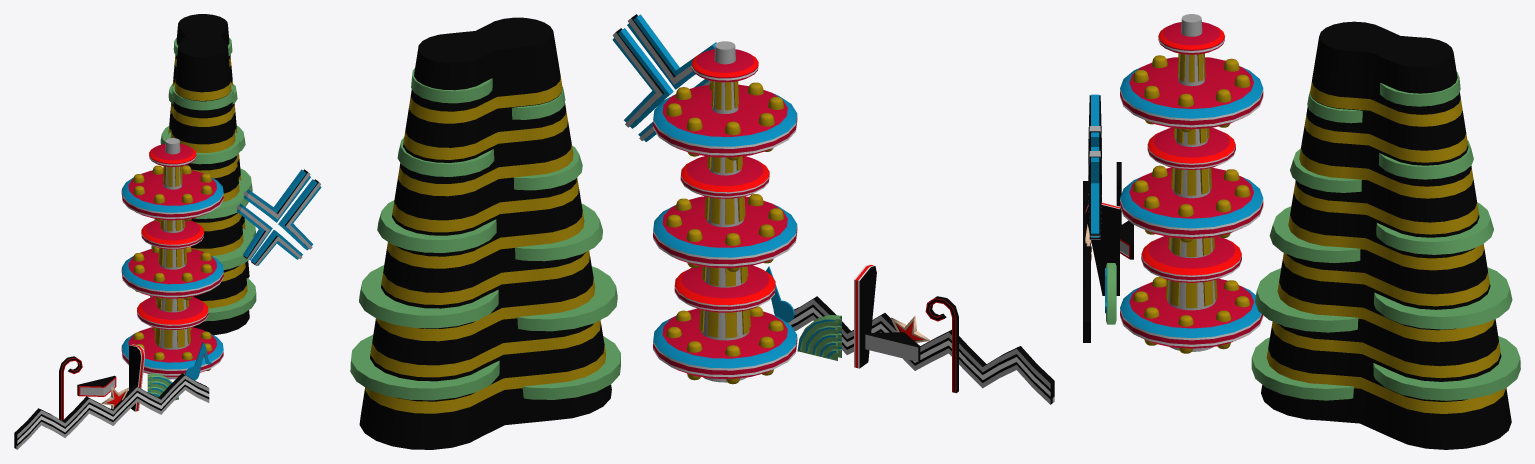
The model's file is ASSETPACK2.fbx.
3 renders of one model, left to right at view 1: azimuth 30°, elevation 25°; view 2: azimuth 150°, elevation 25°; view 3: azimuth 270°, elevation 25°, orthographic. The views are drawn at different scales.
Parts seen in each view (by area): view 1: pCylinder30, pCylinder48, pCube338, pCube344, pCube335, pCube334, pCube337, pCylinder49, pCylinder51; view 2: pCylinder48, pCylinder30, pCube338, pCube344, pCube335, pCylinder49, pCube334, pCube337; view 3: pCylinder48, pCylinder30, pCube344, pCube335, pCube338, pCylinder49, pCube334.
Part boxes in pixels (<box>): pCylinder30: <box>121,138,223,379</box>; pCylinder48: <box>150,14,256,335</box>; pCube338: <box>14,373,209,449</box>; pCube344: <box>236,169,321,265</box>; pCube335: <box>129,344,145,411</box>; pCube334: <box>77,375,116,396</box>; pCube337: <box>59,356,82,420</box>; pCylinder49: <box>147,373,178,400</box>; pCylinder51: <box>185,342,212,380</box>; pCylinder48: <box>350,17,620,449</box>; pCylinder30: <box>653,41,797,384</box>; pCube338: <box>787,296,1054,404</box>; pCube344: <box>612,14,716,141</box>; pCube335: <box>854,264,876,368</box>; pCylinder49: <box>797,314,841,360</box>; pCube334: <box>865,332,920,361</box>; pCube337: <box>925,296,958,393</box>; pCylinder48: <box>1251,21,1520,449</box>; pCylinder30: <box>1120,14,1263,353</box>; pCube344: <box>1088,94,1101,239</box>; pCube335: <box>1085,202,1119,295</box>; pCube338: <box>1083,181,1090,342</box>; pCylinder49: <box>1106,263,1116,324</box>; pCube334: <box>1120,220,1133,259</box>.
Size of the model in its own units: 72.67 by 50.56 by 54.42.
